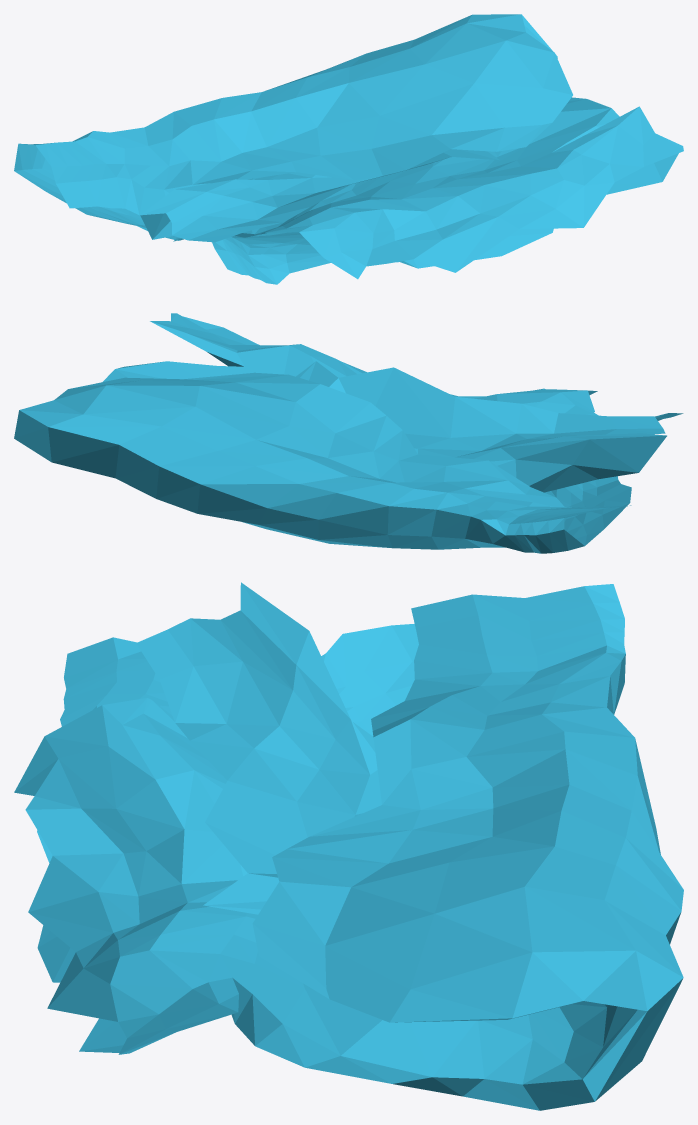
3 renders of one model, top to bottom at view 1: azimuth 30°, elevation 25°; view 2: azimuth 150°, elevation 25°; view 3: azimuth 270°, elevation 25°, orthographic. The views are drawn at different scales.
Parts seen in each view (by area): view 1: 1141; view 2: 1141; view 3: 1141.
Boxes of the visible parts, box(x1,y1,x2,y2) form: 1141: box(14, 14, 683, 284); 1141: box(14, 313, 683, 553); 1141: box(14, 582, 683, 1110).
Size of the model in its own units: 1.4 by 0.2275 by 0.8822.
